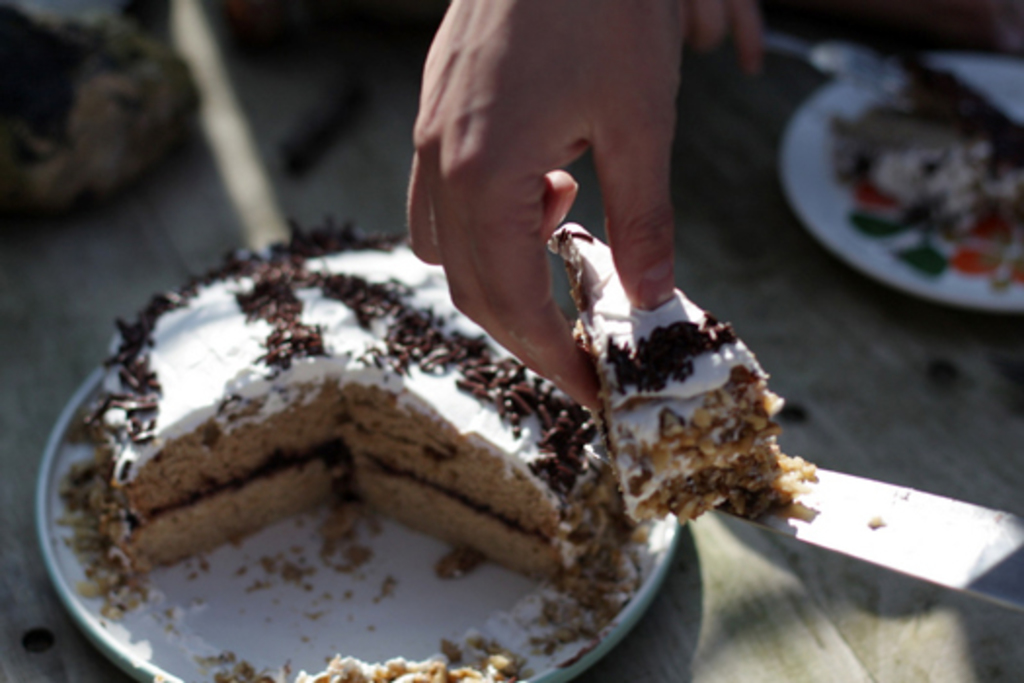cake: (82, 215, 636, 619), (548, 221, 811, 544)
